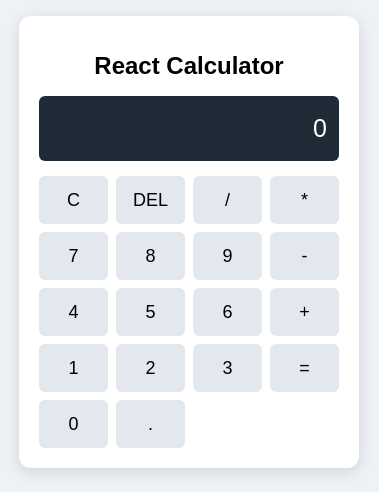
performs multiplication
Click the button "6". click: [228, 312]
box: [193,288,262,336]
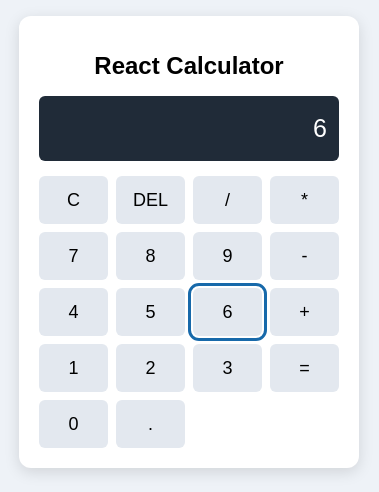
Click the button "*". click: [304, 200]
box: [270,176,339,224]
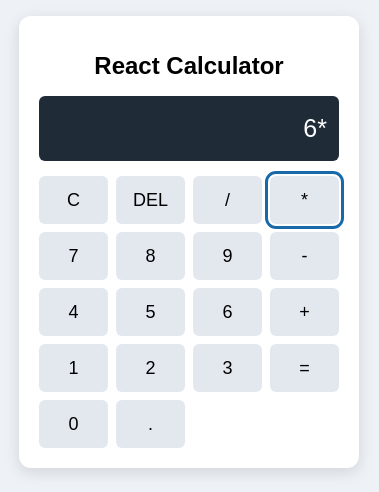
Click the button "7". click: [74, 256]
box: [39,232,108,280]
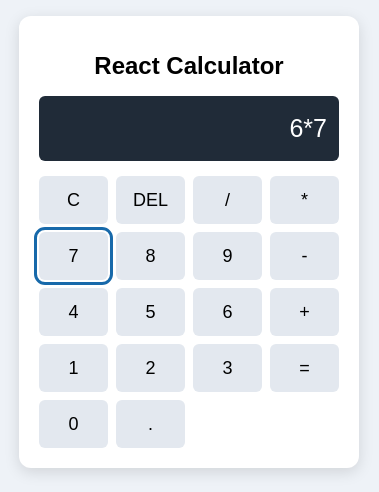
Click the button "=". click: [304, 368]
box: [270,344,339,392]
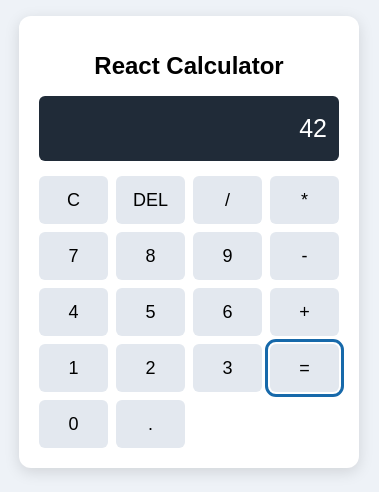
Now the text with test id "display" reads "42", box [299,114,327,142]
